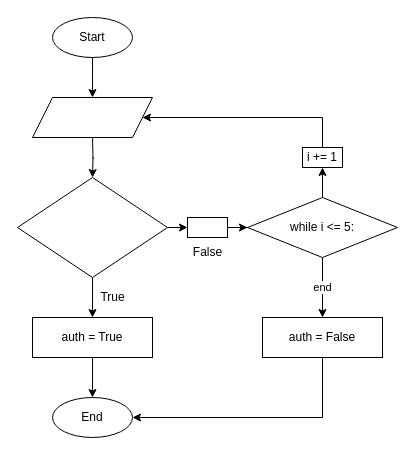
This 415x455 diagram has some shape labels left out. The shapes that lost their labels are listed below. From the top down, each one's centre as x and y in pixels, then its label:
(x=92, y=117): user = input:alph passw = input:int
(x=92, y=227): auth = sinple_login(user=user, passw=passw)
(x=207, y=227): i = 1
